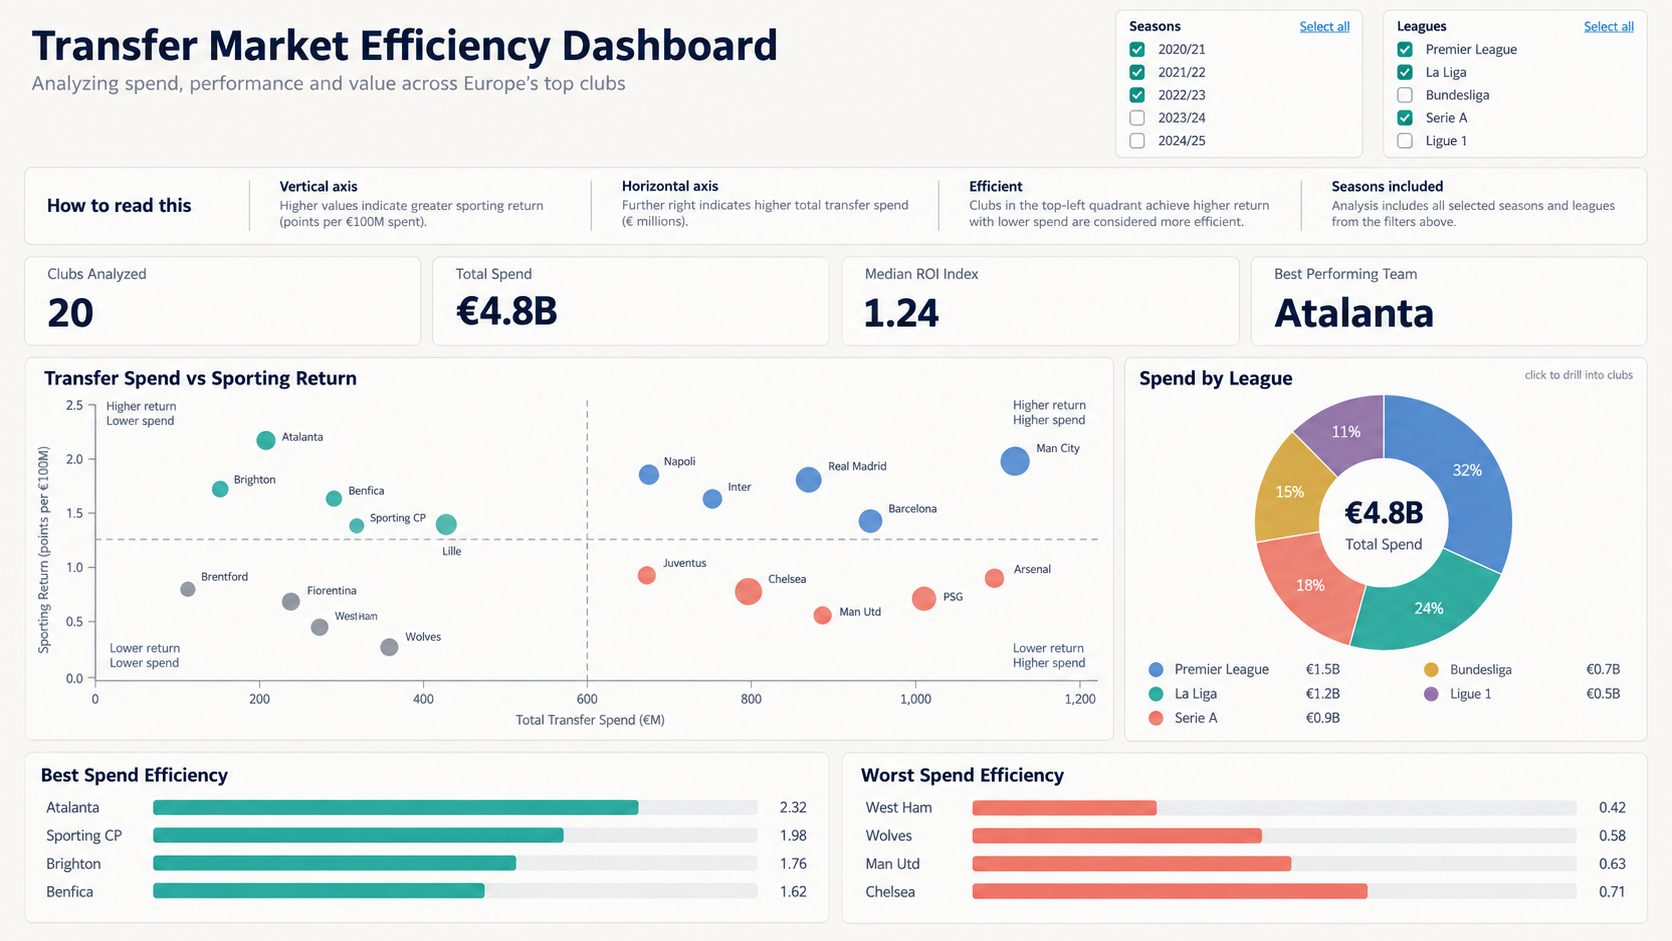

The page's visual inventory and layout, read from the dashboard file:
{"tool":"powerbi","page":{"name":"Leagues Overview","canvas":[1920,1080],"ordinal":0},"visuals":[{"type":"cardVisual","fields":{"Data":["presentation vw_league_overview.Clubs Analyzed"]},"box":[16,118.2,246,102],"z":0},{"type":"cardVisual","fields":{"Data":["presentation vw_league_overview.Median Efficiency Index"]},"box":[278,119.2,250,100],"z":1000},{"type":"cardVisual","fields":{"Data":["presentation vw_league_overview.Best Performing Club"]},"box":[823.1,120,467.7,99.8],"z":2000},{"type":"cardVisual","fields":{"Data":["presentation vw_league_overview.Best League by Efficiency"]},"box":[556,119.2,250,100],"z":3000},{"type":"scatterChart","title":"Transfer Spend vs Sporting Return","fields":{"Category":["presentation vw_league_overview.club_season_key"],"Series":["presentation vw_league_overview.Quadrant"],"X":["Sum(presentation vw_league_overview.Spend For Log)"],"Y":["Sum(presentation vw_league_overview.points_per_match)"]},"box":[16.2,287.5,1330,530],"z":4000},{"type":"donutChart","fields":{"Category":["presentation vw_club_spend_by_league.league"],"Y":["Sum(presentation vw_club_spend_by_league.gross_spend_eur)"]},"box":[1360,288,550,530],"z":5000},{"type":"barChart","title":"Worst Spend Efficiency","fields":{"Category":["presentation vw_league_overview.club_name"],"Y":["Sum(presentation vw_league_overview.efficiency_index)"]},"box":[734,828,704,228],"z":6000},{"type":"barChart","title":"Best Spend Efficiency","fields":{"Category":["presentation vw_league_overview.club_name"],"Y":["Sum(presentation vw_league_overview.efficiency_index)"]},"box":[16,828,704,226],"z":7000},{"type":"slicer","fields":{"Values":["DimSeason.season"]},"box":[1318.8,12.5,328.3,206.7],"z":8000},{"type":"slicer","fields":{"Values":["DimLeague.league"]},"box":[1666.5,12.5,244,206],"z":9000},{"type":"cardVisual","fields":{"Data":["presentation vw_league_overview.Def Vertical Axis"]},"box":[696,227,650,53.3],"z":10000},{"type":"cardVisual","fields":{"Data":["presentation vw_league_overview.Def Efficient"]},"box":[1454,828,456,228],"z":11000},{"type":"cardVisual","fields":{"Data":["presentation vw_league_overview.Def Filters"]},"box":[1360,227.5,550,55],"z":12000},{"type":"cardVisual","fields":{"Data":["presentation vw_league_overview.Def Horizontal Axis"]},"box":[16.2,227,650,55],"z":13000},{"type":"textbox","box":[10,2,1076,78],"z":14000},{"type":"textbox","box":[18,80,968,54],"z":15000}]}

Visuals, with their boxes in screenshot pixels (x1, y1, x2, y2), scaled from the page's 1920x1080 canvas onto the 1672x941 screenshot:
cardVisual - presentation vw_league_overview.Clubs Analyzed: bbox=[14, 103, 228, 192]
cardVisual - presentation vw_league_overview.Median Efficiency Index: bbox=[242, 104, 460, 191]
cardVisual - presentation vw_league_overview.Best Performing Club: bbox=[717, 105, 1124, 192]
cardVisual - presentation vw_league_overview.Best League by Efficiency: bbox=[484, 104, 702, 191]
"Transfer Spend vs Sporting Return" scatterChart: bbox=[14, 250, 1172, 712]
donutChart - presentation vw_club_spend_by_league.league x Sum(presentation vw_club_spend_by_league.gross_spend_eur): bbox=[1184, 251, 1663, 713]
"Worst Spend Efficiency" barChart: bbox=[639, 721, 1252, 920]
"Best Spend Efficiency" barChart: bbox=[14, 721, 627, 918]
slicer - DimSeason.season: bbox=[1148, 11, 1434, 191]
slicer - DimLeague.league: bbox=[1451, 11, 1664, 190]
cardVisual - presentation vw_league_overview.Def Vertical Axis: bbox=[606, 198, 1172, 244]
cardVisual - presentation vw_league_overview.Def Efficient: bbox=[1266, 721, 1663, 920]
cardVisual - presentation vw_league_overview.Def Filters: bbox=[1184, 198, 1663, 246]
cardVisual - presentation vw_league_overview.Def Horizontal Axis: bbox=[14, 198, 580, 246]
textbox: bbox=[9, 2, 946, 70]
textbox: bbox=[16, 70, 859, 117]
